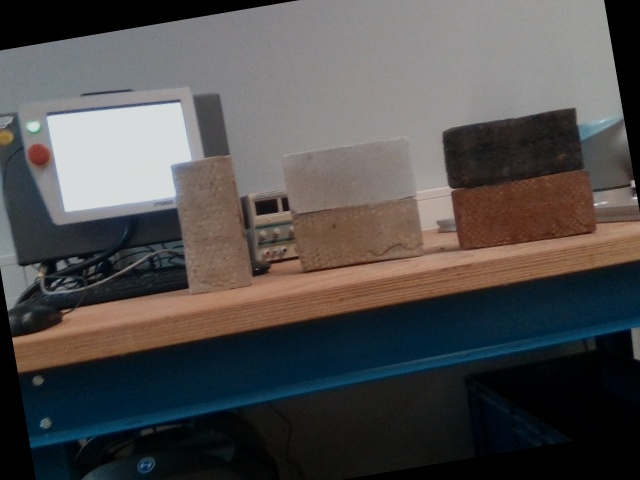brick: (444, 110, 582, 185), (175, 159, 248, 292), (284, 141, 413, 212), (456, 176, 594, 242), (296, 200, 420, 266)
